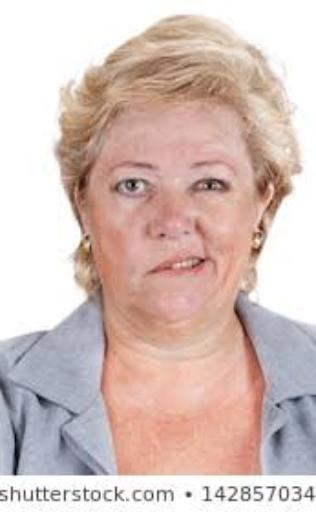left_eye: (191, 177, 233, 201)
left_lip_corner: (200, 253, 216, 271)
right_eye: (111, 176, 156, 203)
right_lip_corner: (140, 266, 156, 284)
